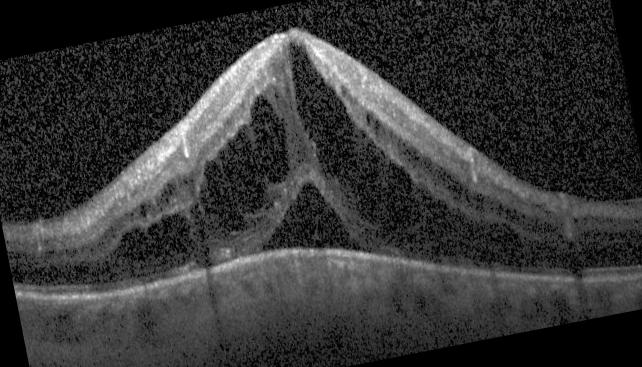intraretinal_cyst: (289, 43, 524, 265), (220, 126, 266, 212), (118, 211, 194, 259), (250, 92, 287, 181), (200, 160, 245, 232), (189, 204, 209, 258), (373, 119, 380, 136), (140, 204, 146, 218), (366, 113, 370, 125)
neuroepithelium_detachment: (263, 181, 363, 250)
